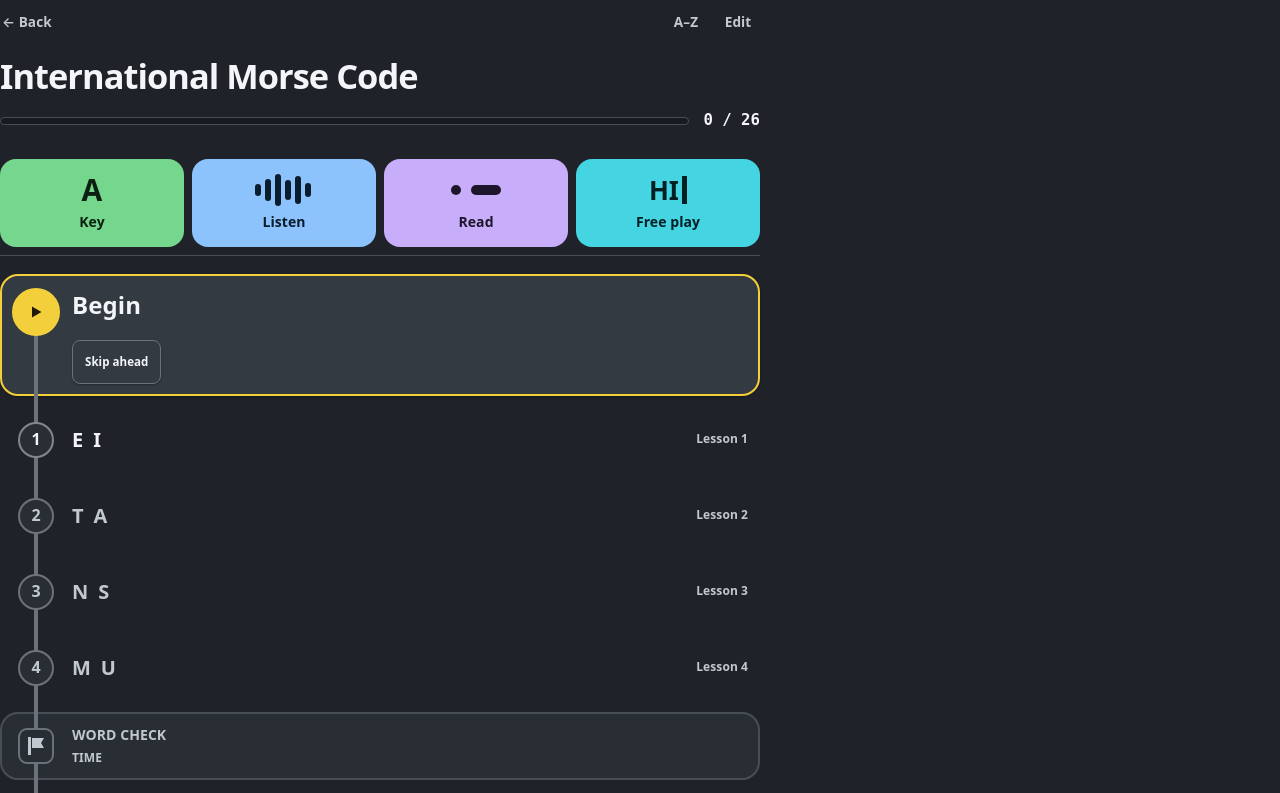
Test: fresh Morse placement entry › offers New, Some and Most before the first lesson starts
Click the button "Skip ahead" at (117, 362), box [72,340,161,384]
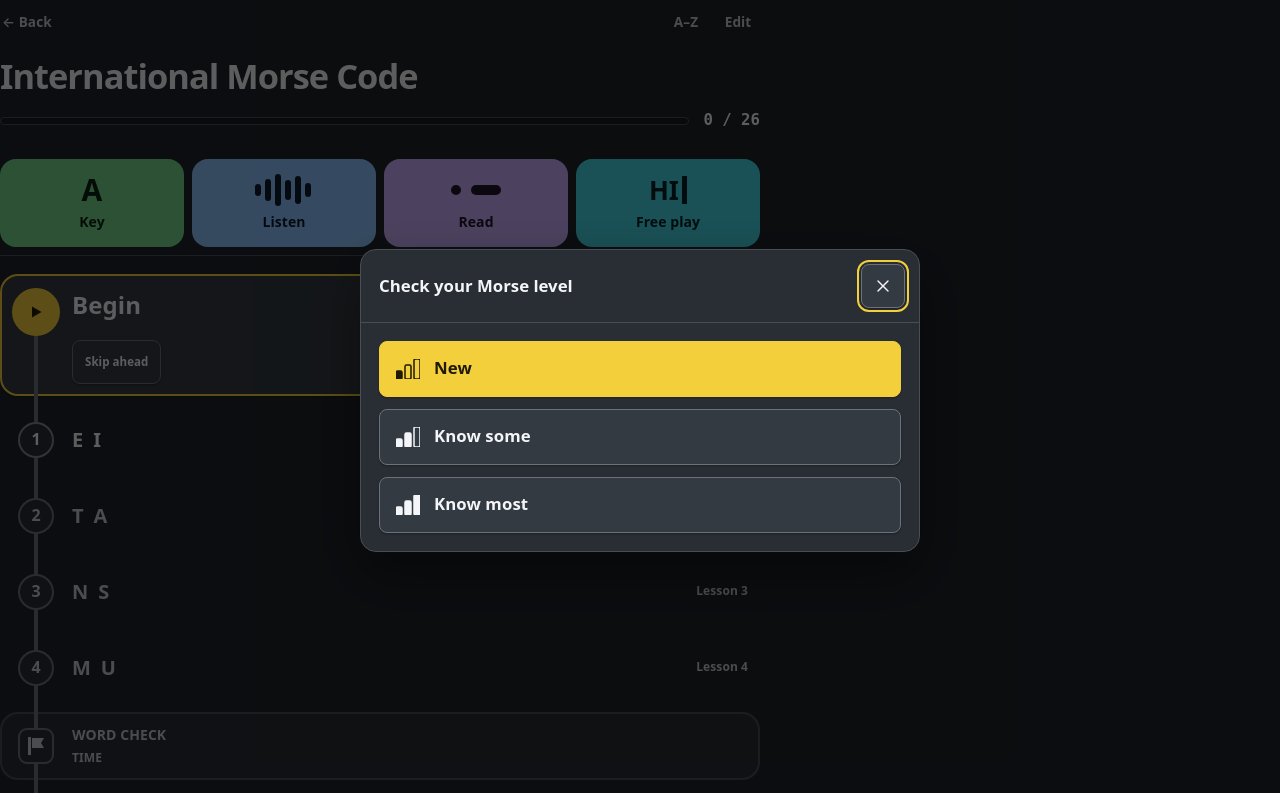
Now the dialog "Check your Morse level" is shown, box [360,248,920,552]
Now the button with aria-label "New to Morse" is shown, box [379,340,901,396]
Now the button with aria-label "Know some Morse" is shown, box [379,408,901,464]
